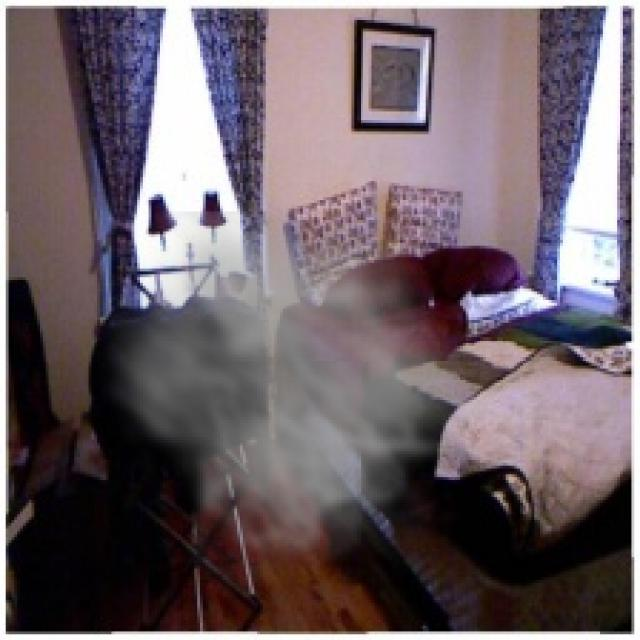smoke: (91, 211, 486, 600)
